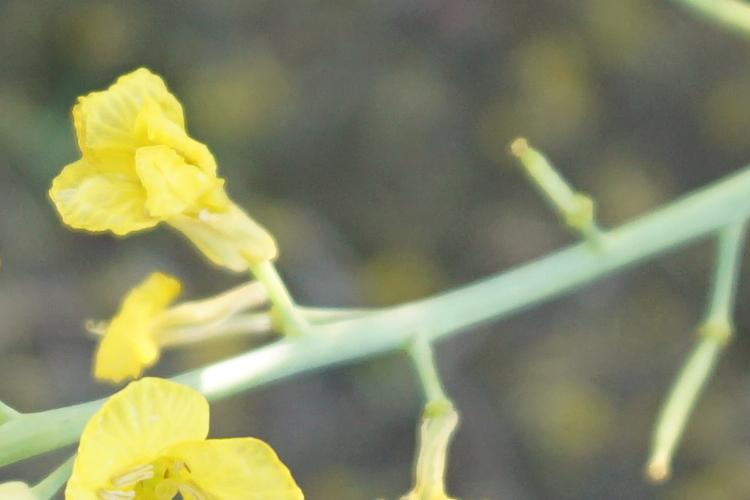yellow: (45, 85, 284, 273), (73, 388, 310, 500), (79, 274, 307, 382)
